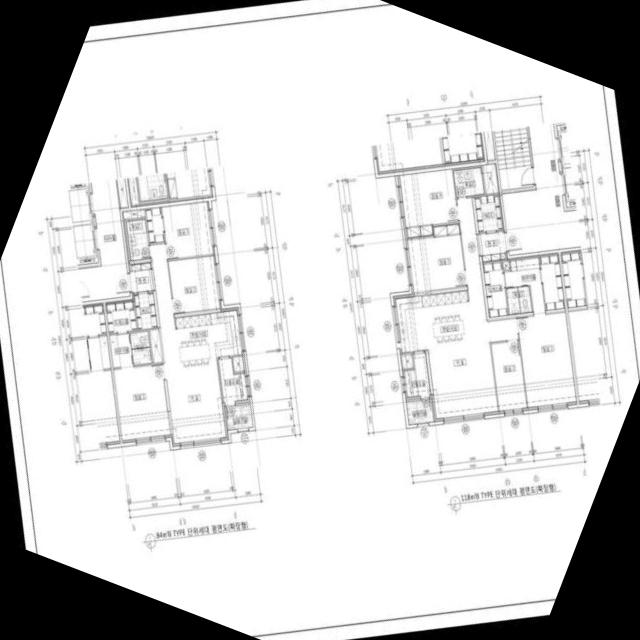background: (0, 0, 640, 640)
space_bedroom: (517, 311, 576, 409), (114, 363, 171, 442), (406, 223, 466, 292), (398, 169, 458, 238), (162, 201, 215, 259), (168, 255, 221, 313), (491, 340, 527, 413)
space_dressroom: (483, 262, 508, 317), (105, 299, 137, 333), (145, 207, 165, 243)
space_elevator: (72, 221, 98, 264), (68, 182, 93, 224), (556, 124, 571, 166), (562, 165, 576, 207)
space_elevator_hall: (502, 123, 580, 255), (78, 179, 130, 301)
space_front: (479, 231, 506, 261), (129, 261, 154, 292)
space_kitchen: (393, 290, 475, 352), (175, 307, 244, 368)
space_living_room: (428, 197, 518, 420), (150, 243, 228, 446)
space_multipurpose_space: (218, 357, 250, 405)
space_other: (504, 257, 545, 311), (540, 255, 565, 310), (402, 352, 430, 397), (474, 194, 502, 232), (134, 292, 157, 329), (149, 329, 163, 363), (483, 163, 498, 194), (117, 178, 128, 208), (122, 209, 145, 219), (233, 355, 246, 371), (400, 353, 413, 368), (503, 261, 509, 269)
space_outdoor_room: (406, 399, 433, 424), (226, 404, 253, 429)
space_staircase: (494, 126, 533, 190)
space_toilet: (109, 330, 152, 367), (126, 218, 150, 260), (453, 166, 484, 197), (506, 286, 532, 314)
